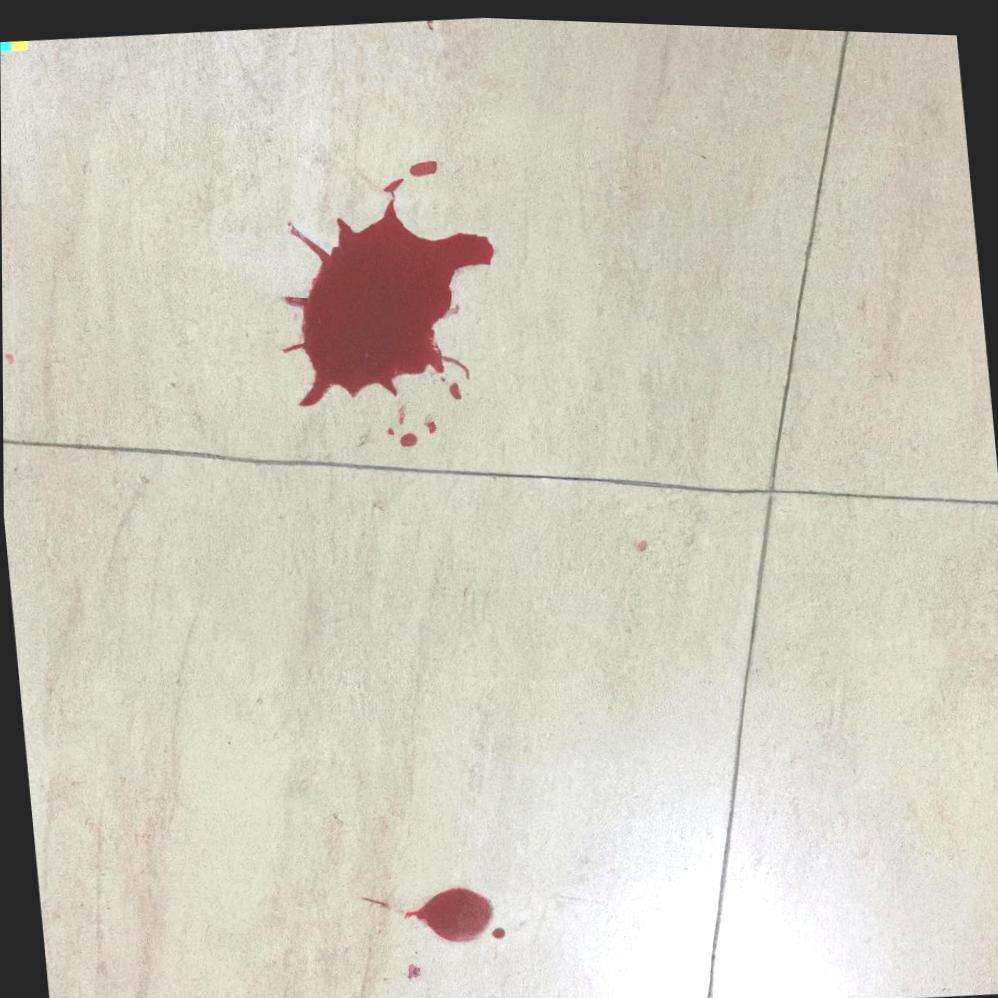Fire: (280, 175, 494, 405), (403, 884, 491, 939), (408, 157, 436, 173), (397, 430, 416, 445), (448, 379, 461, 396), (489, 923, 504, 936), (425, 417, 436, 431)
